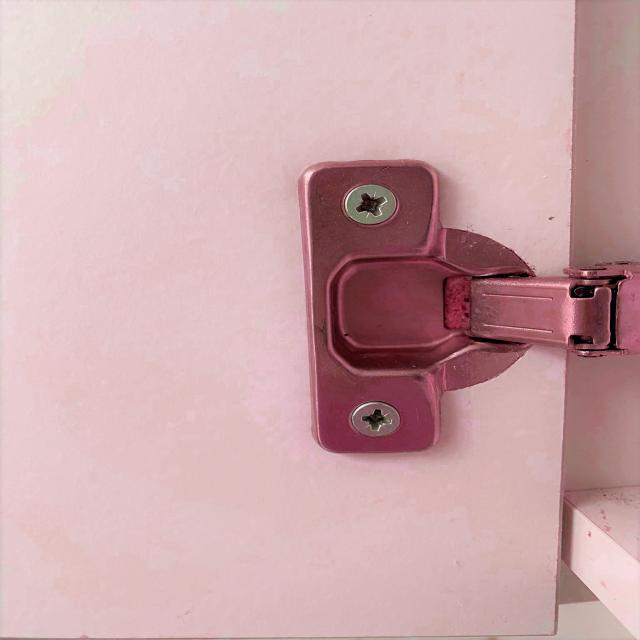PhillipsScrewHead: (342, 182, 398, 225), (350, 400, 402, 439)
